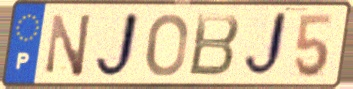5: (293, 11, 335, 80)
B: (186, 12, 243, 79)
J: (92, 9, 143, 82), (240, 9, 291, 82)
N: (44, 11, 95, 79)
O: (144, 11, 190, 79)
